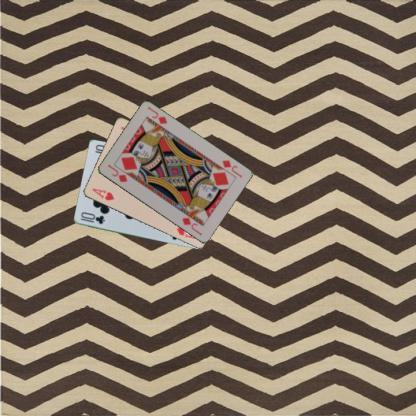10c: (77, 210, 106, 225)
Ah: (90, 186, 115, 202)
Jd: (105, 162, 128, 184), (220, 157, 243, 179)
